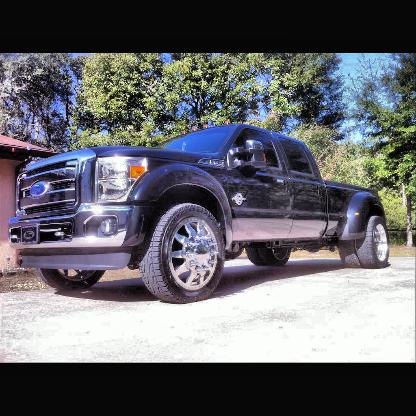Ford F-450 Super Duty Crew Cab 2012: (10, 125, 391, 304)
